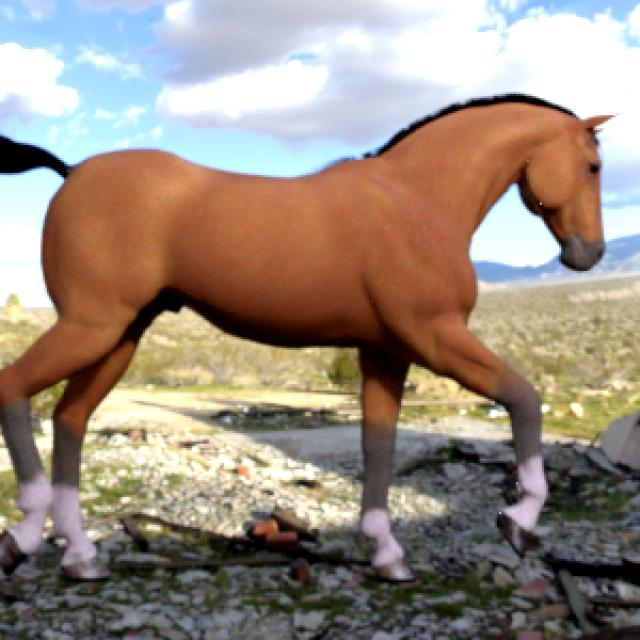horse: (0, 95, 610, 581)
